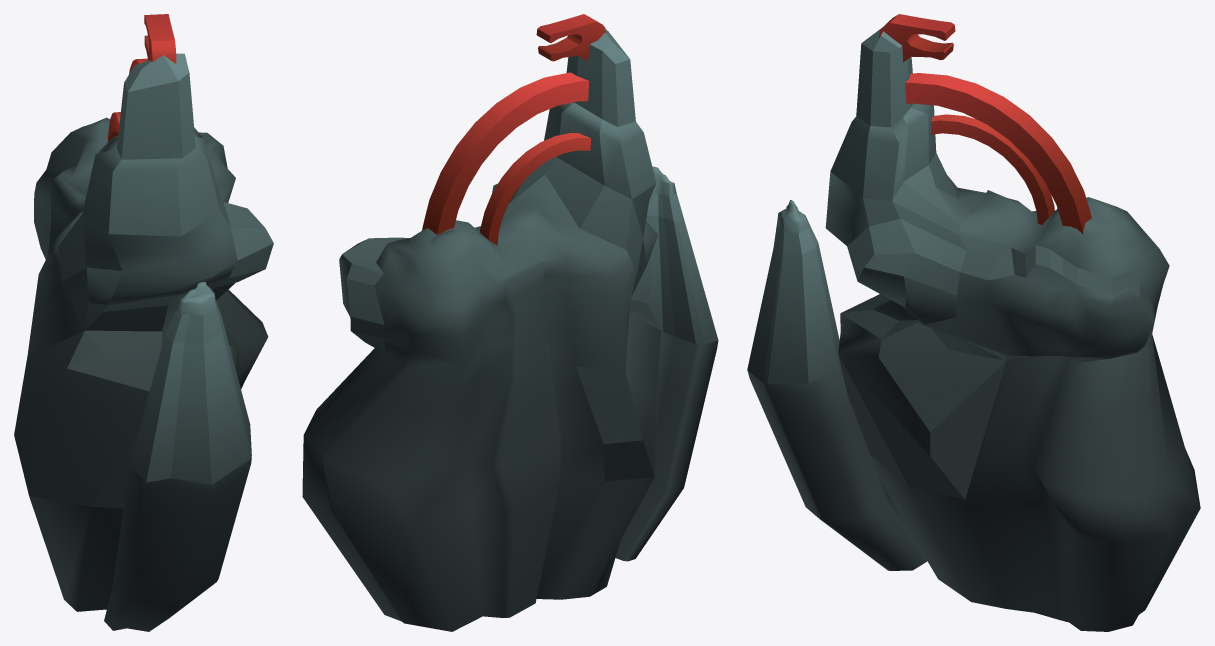
File: ISLAND_02.fbx
The picture shows the model from 3 angles, left to right: view 1: azimuth 30°, elevation 25°; view 2: azimuth 150°, elevation 25°; view 3: azimuth 270°, elevation 25°; orthographic projection. The views are drawn at different scales.
Visible parts, largest first — view 1: ISLAND_02_BASE, ISLAND_02_PART_A, serpent_head; view 2: ISLAND_02_BASE, ISLAND_02_PART_A, serpent_bodyA, serpent_bodyB, serpent_head; view 3: ISLAND_02_BASE, ISLAND_02_PART_A, serpent_bodyA, serpent_bodyB, serpent_head.
Boxes of the visible parts, x1,y1,x2,y2 form: ISLAND_02_BASE: [14, 53, 273, 611]; ISLAND_02_PART_A: [104, 282, 251, 631]; serpent_head: [144, 14, 176, 64]; ISLAND_02_BASE: [302, 29, 660, 631]; ISLAND_02_PART_A: [615, 166, 718, 561]; serpent_bodyA: [422, 72, 589, 234]; serpent_bodyB: [480, 133, 590, 244]; serpent_head: [536, 14, 606, 61]; ISLAND_02_BASE: [825, 27, 1200, 631]; ISLAND_02_PART_A: [747, 200, 927, 570]; serpent_bodyA: [905, 73, 1091, 233]; serpent_bodyB: [931, 114, 1054, 224]; serpent_head: [878, 14, 955, 62].
Bounding box in the file's own units: 72.43 × 134 × 98.18.
